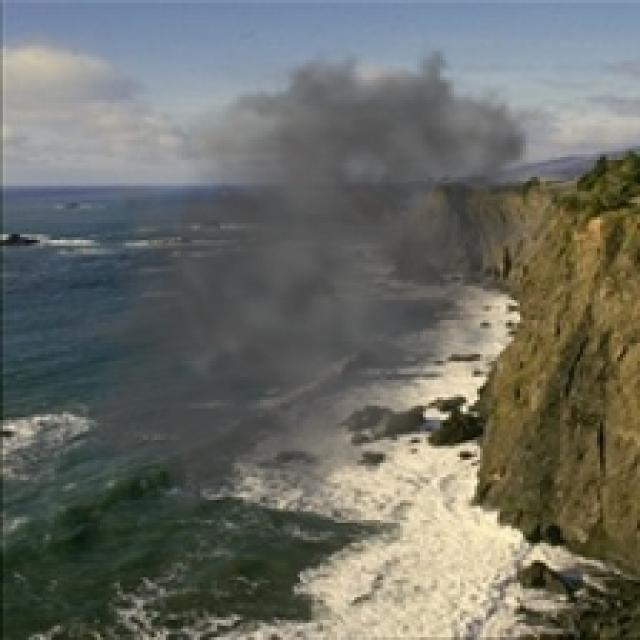smoke: (51, 14, 568, 549)
